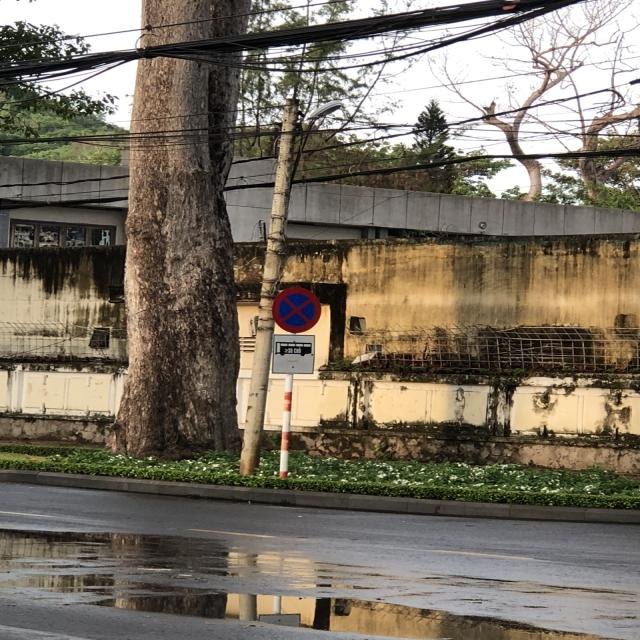Bien bao cam dung xe va do xe: (270, 286, 325, 333)
